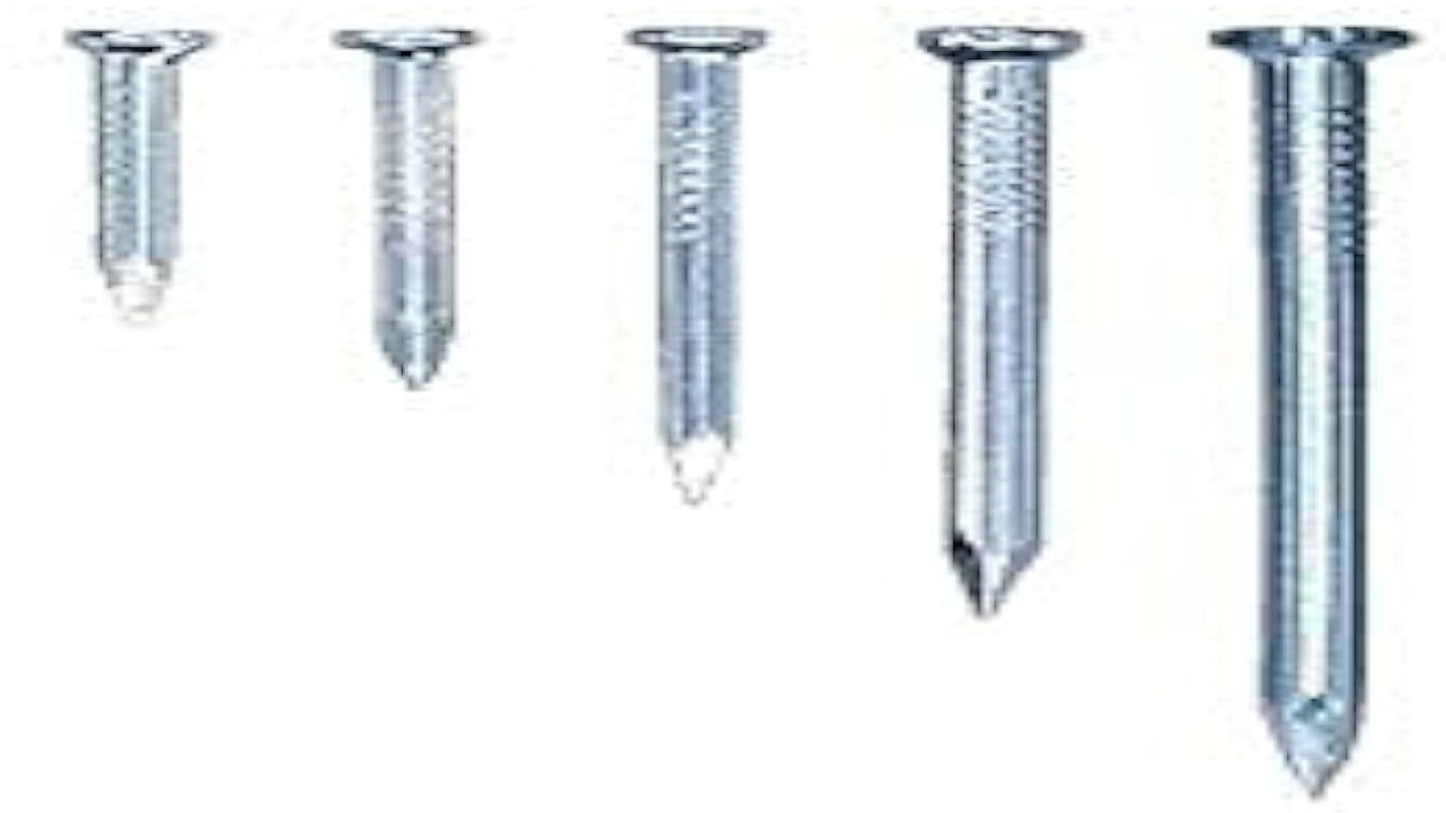nail: (1193, 20, 1431, 805), (904, 14, 1090, 632), (307, 16, 528, 429), (614, 14, 787, 531), (39, 12, 251, 354)
